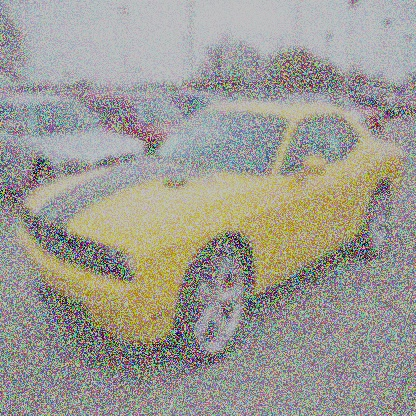Vehicle: (15, 98, 409, 368)
